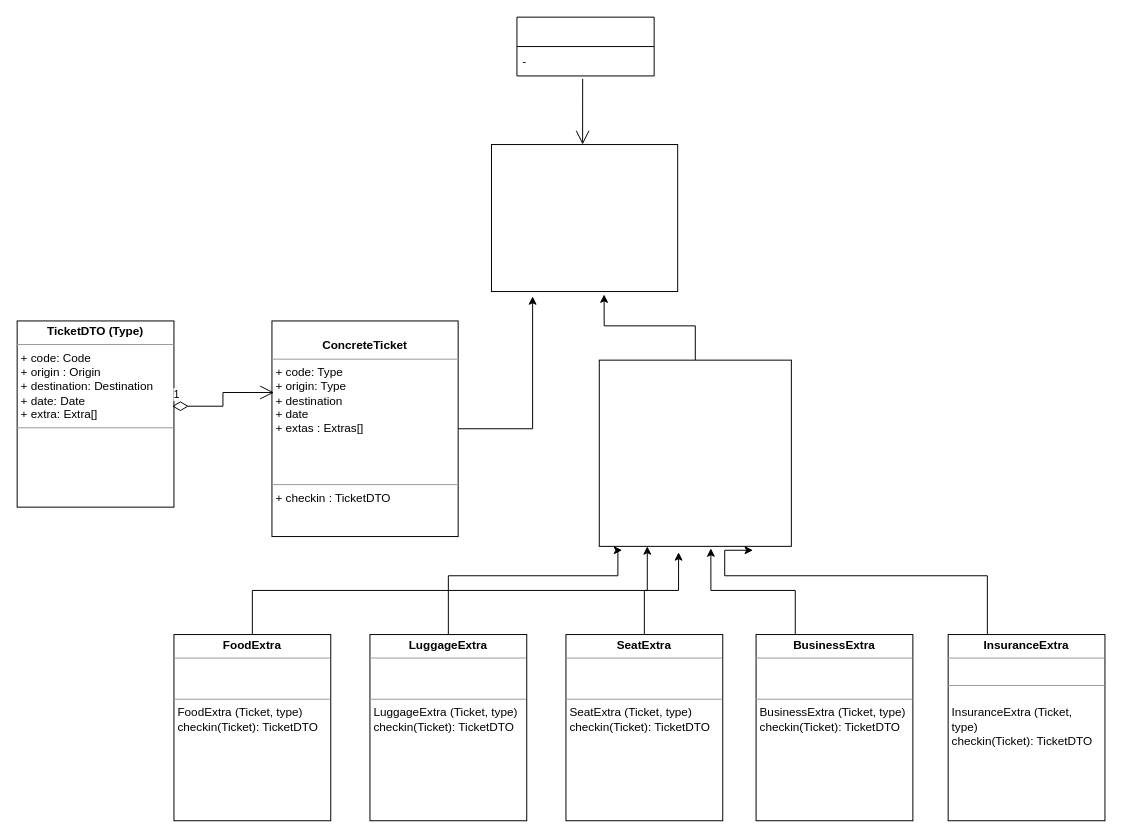
Some shapes in this 1122 by 838 pixel diagram are drawn without their labels. The shapes that lost their labels are listed below. From the top down, each one's box as (x1, y1, x2, y2) in pixels, then its label:
(516, 16, 654, 76): Application (checkin)
(490, 144, 678, 292): <<Interface>> Ticket + checkin(): Boolean
(598, 359, 791, 546): ExtraDecorator + wrapee: Ticket + Extra(Ticket) + checkin (Ticket): TicketDTO
